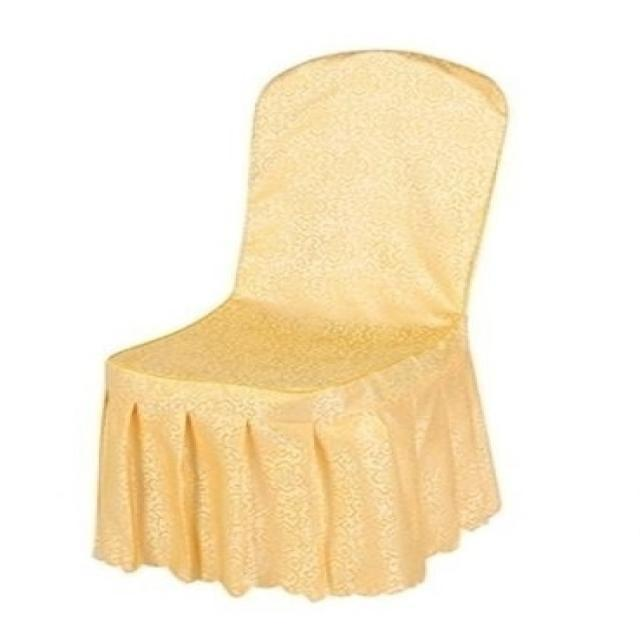chair: (87, 41, 516, 605)
